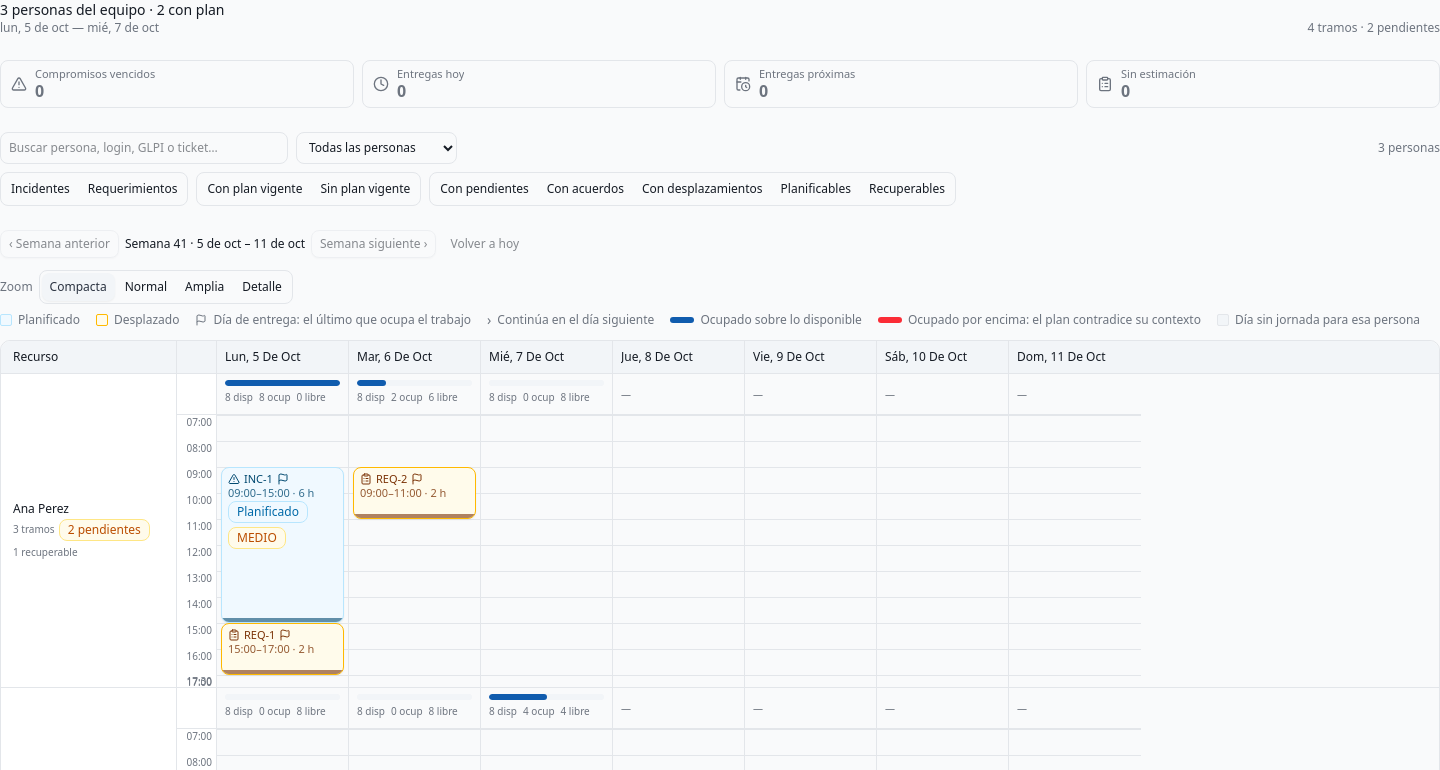
TeamTimeline › el chip con varios pendientes abre el panel filtrado por esa persona
Check: the link "Ana Perez" is shown, box [13,500,69,517]
Click the button "2 pendientes": (104, 530) [59,519,150,541]
(page scrolled)
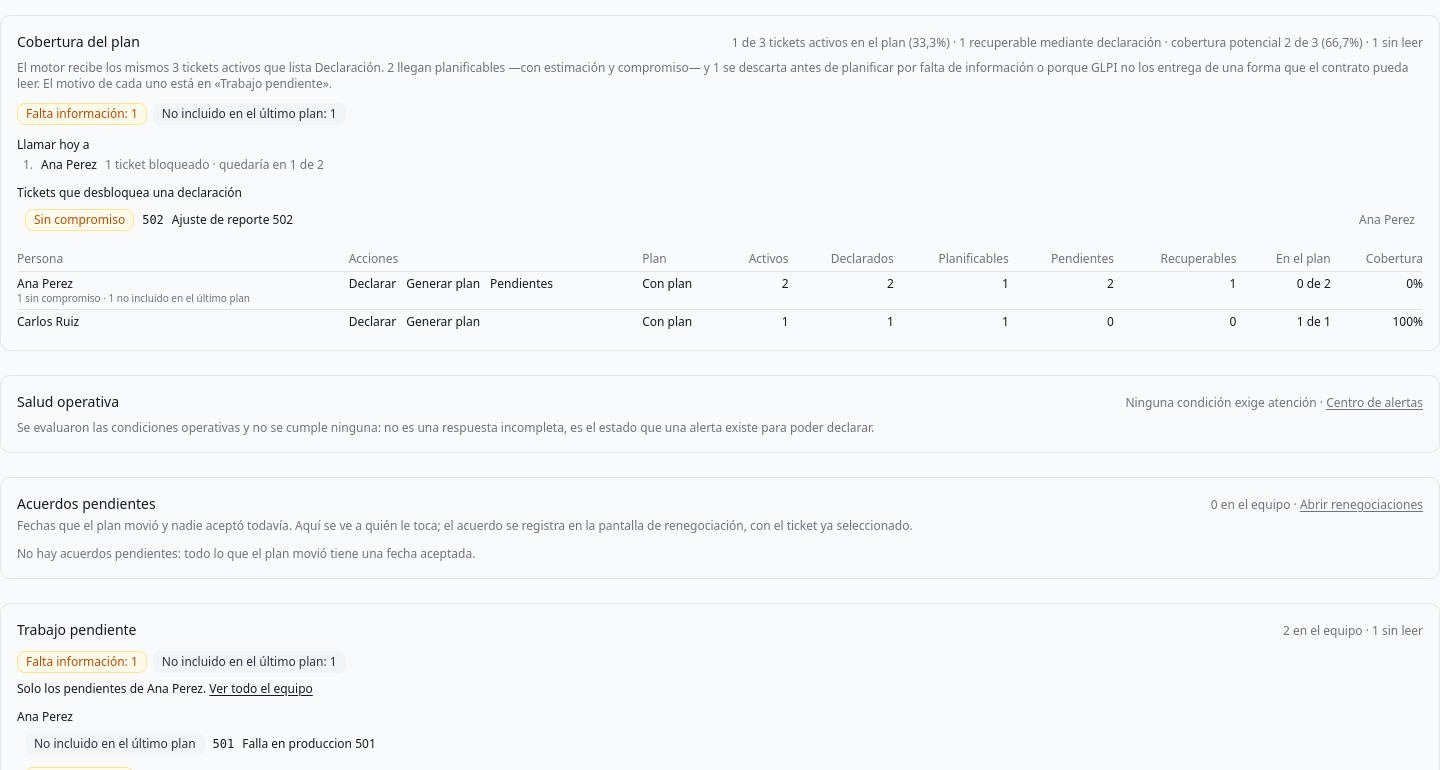
Check: the text "Solo los pendientes de Ana Perez. Ver todo el equipo" is shown, box [17,680,313,697]
